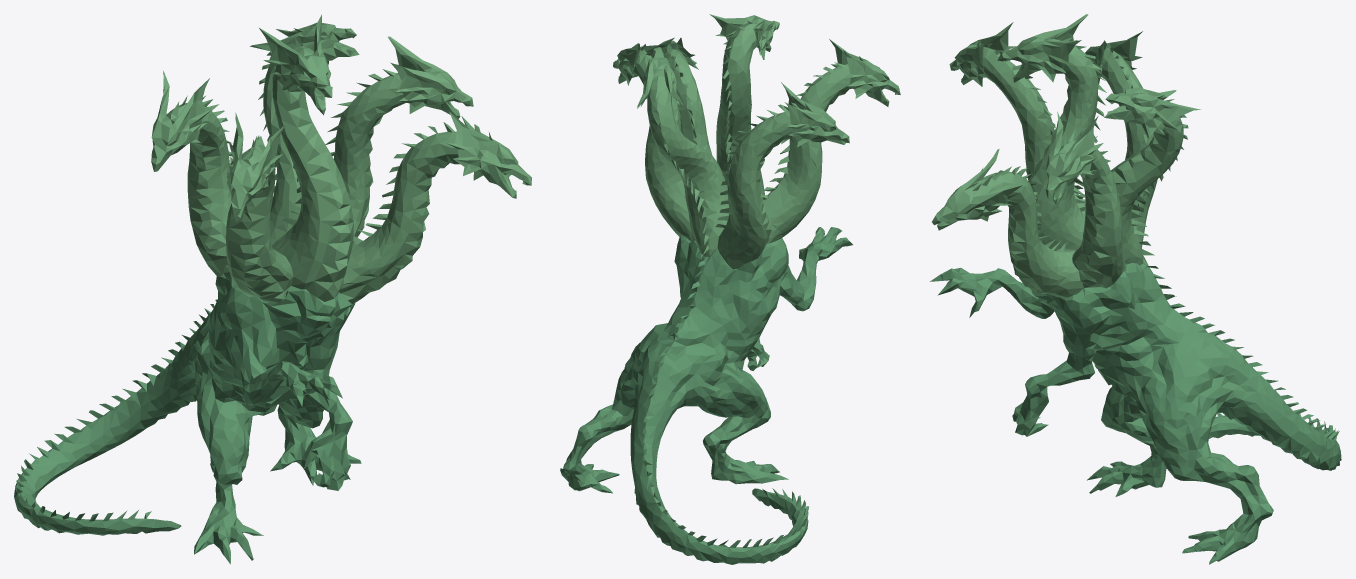
The model's file is dragon.glb.
3 views of the same model, side by side, from view 1: azimuth 30°, elevation 25°; view 2: azimuth 150°, elevation 25°; view 3: azimuth 270°, elevation 25° (orthographic). The views are drawn at different scales.
Parts seen in each view (by area): view 1: Head, Body; view 2: Body, Head; view 3: Body, Head.
Part boxes in pixels (x1=…): Head: x1=151, y1=14, x2=531, y2=303; Body: x1=14, y1=275, x2=361, y2=564; Body: x1=560, y1=227, x2=852, y2=564; Head: x1=613, y1=14, x2=900, y2=269; Body: x1=930, y1=256, x2=1341, y2=564; Head: x1=932, y1=14, x2=1201, y2=297.
Size of the model in its own units: 3.28 by 5 by 3.86.
